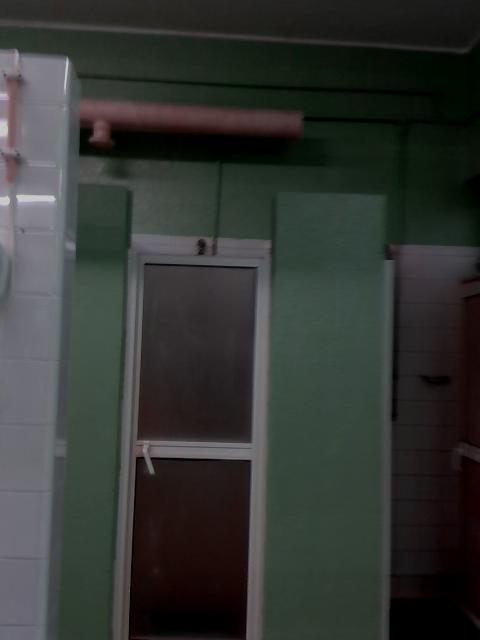closed_door: (119, 245, 272, 639)
